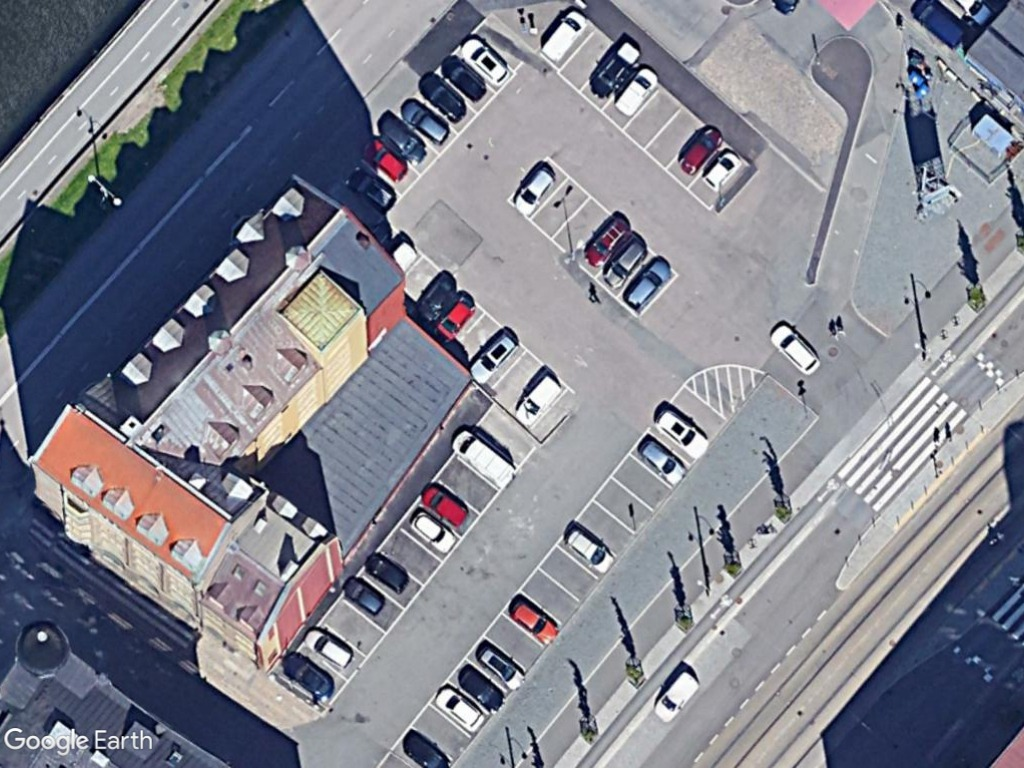car: (456, 30, 520, 91), (273, 646, 338, 706), (652, 402, 717, 462), (463, 323, 522, 389), (375, 110, 438, 171), (501, 593, 567, 651), (415, 68, 479, 127), (339, 159, 405, 216), (619, 252, 676, 318), (430, 680, 493, 739), (764, 318, 824, 379), (632, 434, 694, 492), (559, 521, 622, 578), (398, 94, 458, 153), (596, 232, 652, 295), (298, 621, 361, 674), (509, 157, 559, 223), (435, 51, 494, 106), (456, 659, 510, 719), (580, 210, 632, 272), (674, 120, 727, 180), (510, 368, 563, 428), (417, 477, 473, 533), (473, 641, 527, 697), (357, 131, 413, 184), (404, 502, 460, 555), (337, 567, 392, 620), (361, 548, 415, 600), (428, 292, 479, 346), (697, 144, 747, 199)
other: (583, 37, 643, 107)
van: (447, 424, 520, 494), (646, 666, 704, 729), (536, 4, 592, 68), (609, 61, 659, 124)
